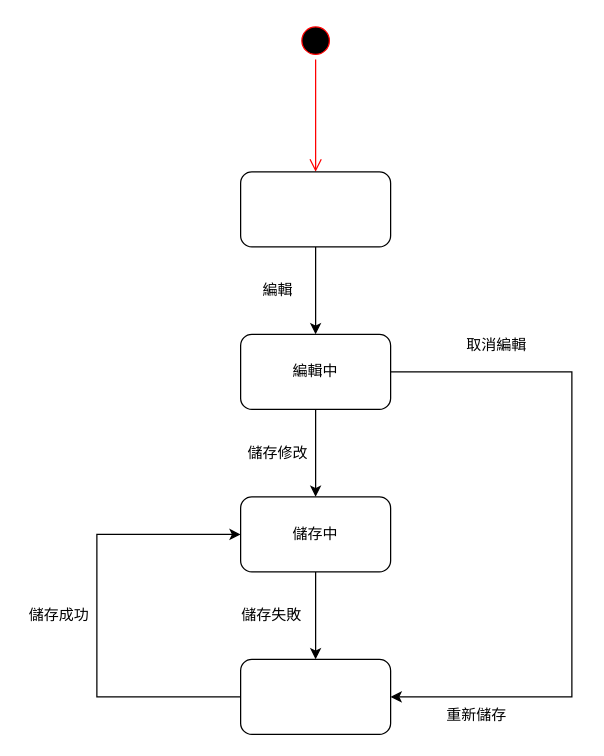
Some shapes in this 604 by 756 pixel diagram are drawn without their labels. Each missing label, with the centre of its shape:
"查看貼文" belongs at point 315,209.
"編輯失敗" belongs at point 315,696.
